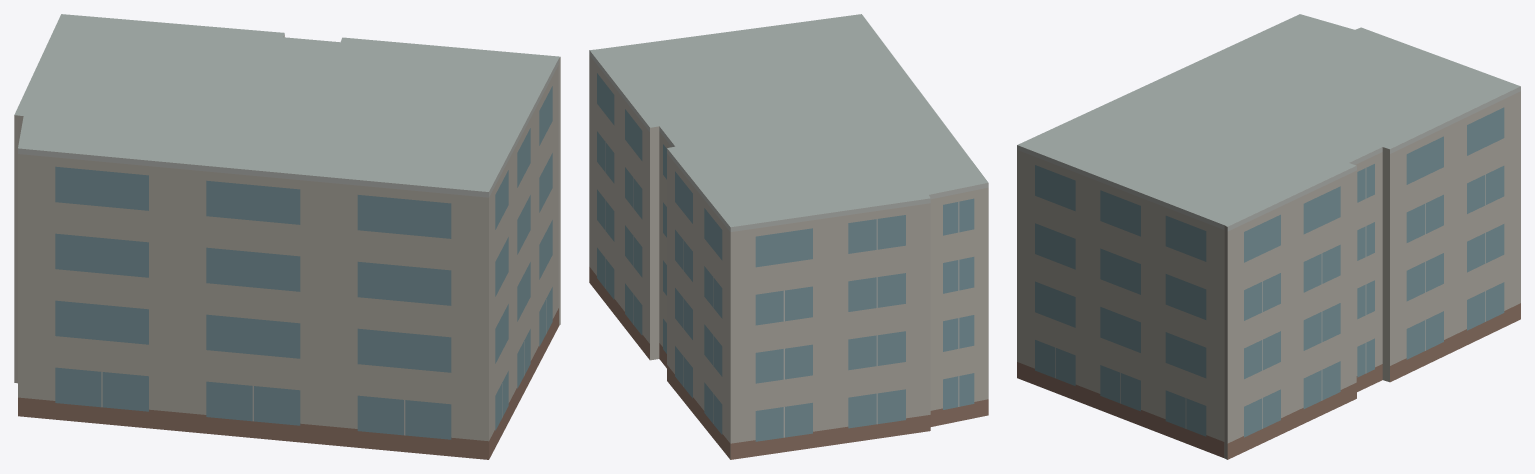
File: survey-upis-32967503.glb
The picture shows the model from 3 angles, left to right: view 1: azimuth 30°, elevation 25°; view 2: azimuth 150°, elevation 25°; view 3: azimuth 270°, elevation 25°; orthographic projection. The views are drawn at different scales.
Parts seen in each view (by area): view 1: survey-upis-32967503.tmp; view 2: survey-upis-32967503.tmp; view 3: survey-upis-32967503.tmp.
Boxes of the visible parts, x1=… form: survey-upis-32967503.tmp: x1=14, y1=14, x2=560, y2=459; survey-upis-32967503.tmp: x1=589, y1=14, x2=988, y2=459; survey-upis-32967503.tmp: x1=1017, y1=14, x2=1520, y2=459.
Bounding box in the file's own units: 22.93 × 11.7 × 22.93.
